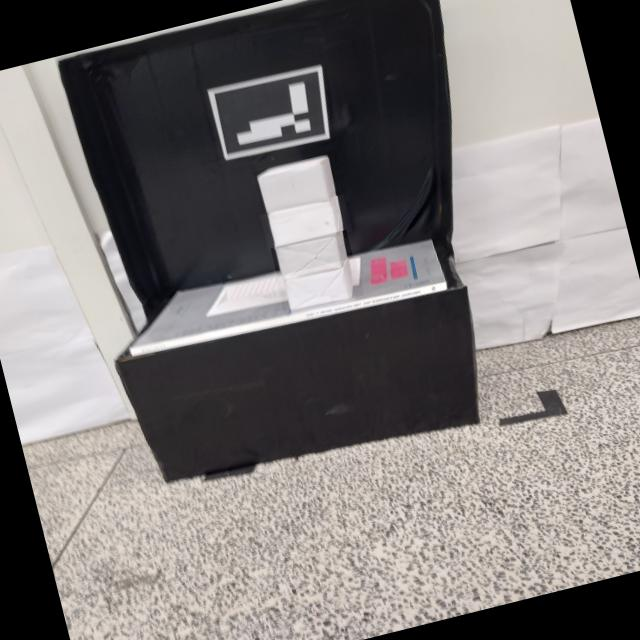bale: (252, 152, 341, 218), (259, 194, 352, 252), (275, 256, 364, 314), (270, 229, 354, 283)
